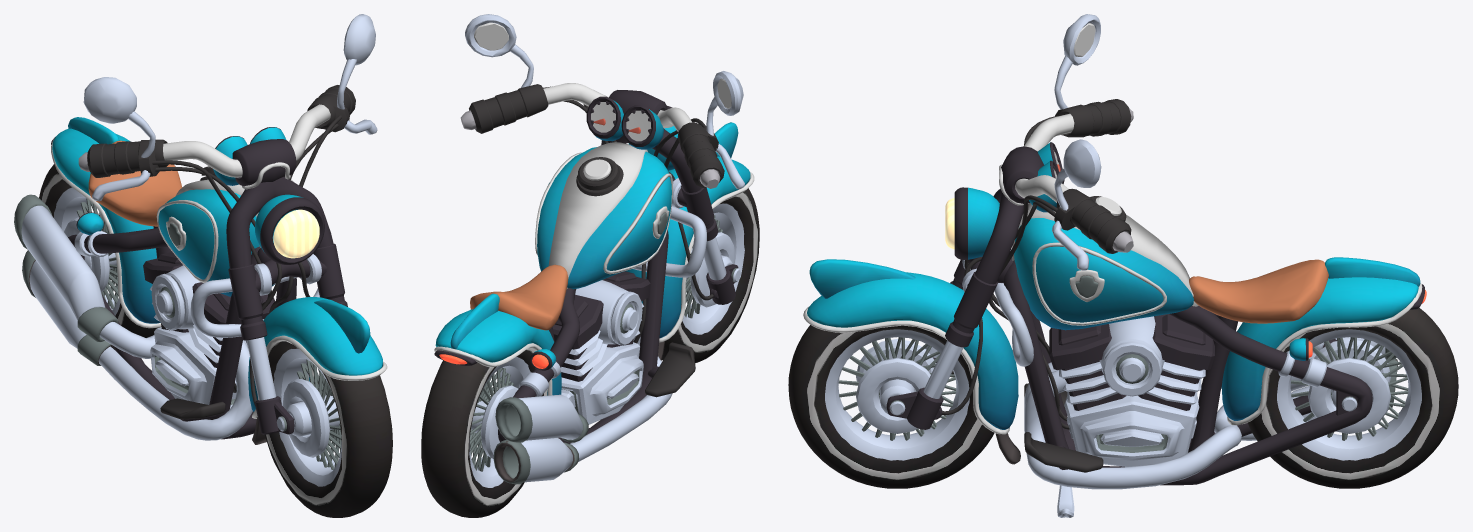
The model's file is moto.glb.
3 renders of one model, left to right at view 1: azimuth 30°, elevation 25°; view 2: azimuth 150°, elevation 25°; view 3: azimuth 270°, elevation 25°, orthographic. The views are drawn at different scales.
Visible parts, largest first — view 1: Circle.012_Mishelin_0, Cube.011_Material.076_0, NurbsPath.013_Material.076_0, Plane.010_FireCar.001_0, Circle.011_Moto 2.003_0, Cube.013_Moto 2.002_0, Circle.014_Material.076_0, Cylinder.001_Material.076_0, Circle.015_Moto 2.003_0, Plane.007_FireCar.001_0, Cylinder.018_Ruchki.001_0, Cylinder.027_Material.076_0 (+33 smaller); view 2: Circle.003_Mishelin_0, Cube.013_Moto 2.002_0, Cube.011_Material.076_0, Cube.009_Material.029_0, Plane.010_FireCar.001_0, Cylinder.018_Ruchki.001_0, Circle.012_Mishelin_0, Circle.015_Moto 2.003_0, Cube.012_Leather_0, Circle.014_Material.076_0, Circle.011_Moto 2.003_0, Cube.011_FireCar.001_0 (+37 smaller); view 3: Plane.010_FireCar.001_0, Cube.011_Material.076_0, Circle.003_Mishelin_0, Circle.012_Mishelin_0, Cube.013_Moto 2.002_0, Circle.011_Moto 2.003_0, Circle.014_Material.076_0, Circle.002_Material.076_0, Circle.015_Moto 2.003_0, Cube.011_FireCar.001_0, NurbsPath.013_Material.076_0, Cube.012_Leather_0 (+24 smaller).
Part boxes in pixels (bbox=[...]): Circle.012_Mishelin_0: bbox=[265, 341, 392, 517]; Cube.011_Material.076_0: bbox=[150, 265, 246, 408]; NurbsPath.013_Material.076_0: bbox=[98, 322, 252, 440]; Plane.010_FireCar.001_0: bbox=[68, 226, 296, 439]; Circle.011_Moto 2.003_0: bbox=[248, 297, 382, 411]; Cube.013_Moto 2.002_0: bbox=[158, 189, 274, 296]; Circle.014_Material.076_0: bbox=[273, 348, 341, 486]; Cylinder.001_Material.076_0: bbox=[21, 205, 105, 320]; Circle.015_Moto 2.003_0: bbox=[52, 128, 160, 323]; Plane.007_FireCar.001_0: bbox=[226, 176, 333, 291]; Cylinder.018_Ruchki.001_0: bbox=[87, 85, 355, 177]; Cylinder.027_Material.076_0: bbox=[83, 14, 375, 123]; Circle.003_Mishelin_0: bbox=[421, 348, 547, 517]; Cube.013_Moto 2.002_0: bbox=[537, 147, 671, 289]; Cube.011_Material.076_0: bbox=[561, 280, 643, 424]; Cube.009_Material.029_0: bbox=[548, 142, 647, 288]; Plane.010_FireCar.001_0: bbox=[498, 230, 668, 443]; Cylinder.018_Ruchki.001_0: bbox=[469, 84, 724, 187]; Circle.012_Mishelin_0: bbox=[662, 188, 759, 362]; Circle.015_Moto 2.003_0: bbox=[435, 309, 561, 395]; Cube.012_Leather_0: bbox=[470, 264, 568, 330]; Circle.014_Material.076_0: bbox=[682, 203, 744, 334]; Circle.011_Moto 2.003_0: bbox=[625, 156, 750, 338]; Cube.011_FireCar.001_0: bbox=[552, 271, 650, 381]; Plane.010_FireCar.001_0: bbox=[1003, 260, 1372, 485]; Cube.011_Material.076_0: bbox=[1059, 316, 1205, 466]; Circle.003_Mishelin_0: bbox=[1248, 307, 1458, 488]; Circle.012_Mishelin_0: bbox=[788, 325, 994, 488]; Cube.013_Moto 2.002_0: bbox=[1014, 218, 1193, 330]; Circle.011_Moto 2.003_0: bbox=[807, 272, 1018, 429]; Circle.014_Material.076_0: bbox=[825, 329, 969, 460]; Circle.002_Material.076_0: bbox=[1277, 329, 1421, 460]; Circle.015_Moto 2.003_0: bbox=[1221, 277, 1418, 420]; Cube.011_FireCar.001_0: bbox=[1049, 314, 1214, 410]; NurbsPath.013_Material.076_0: bbox=[1024, 362, 1256, 489]; Cube.012_Leather_0: bbox=[1189, 259, 1328, 323].
Size of the model in its own units: 1.05 by 1.38 by 2.06.
Materials: 15 (3 with a texture image).
